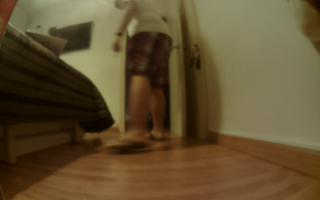person: (96, 1, 182, 157)
